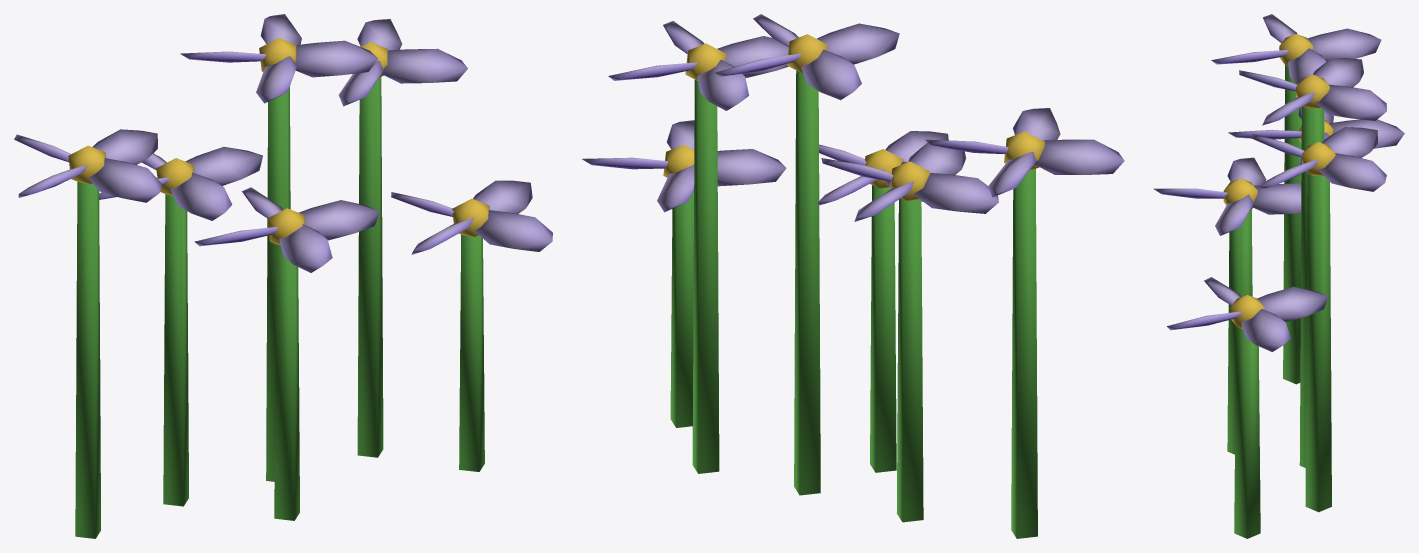
Rendered from flowers_blue.glb.
The picture shows the model from 3 angles, left to right: view 1: azimuth 30°, elevation 25°; view 2: azimuth 150°, elevation 25°; view 3: azimuth 270°, elevation 25°; orthographic projection. The views are drawn at different scales.
Parts seen in each view (by area): view 1: Flowers; view 2: Flowers; view 3: Flowers.
Part boxes in pixels (<box>): Flowers: <box>14,14,552,538</box>; Flowers: <box>582,14,1124,538</box>; Flowers: <box>1153,14,1404,538</box>.
Size of the model in its own units: 0.4817 by 0.3907 by 0.228.
